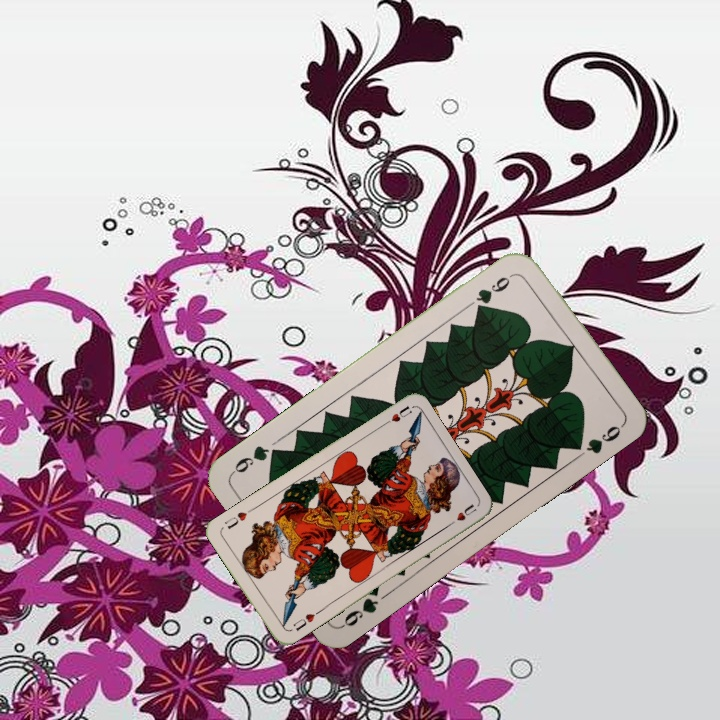G9: (338, 581, 382, 630), (471, 269, 516, 314)
HU: (377, 402, 414, 430), (289, 607, 321, 634)
